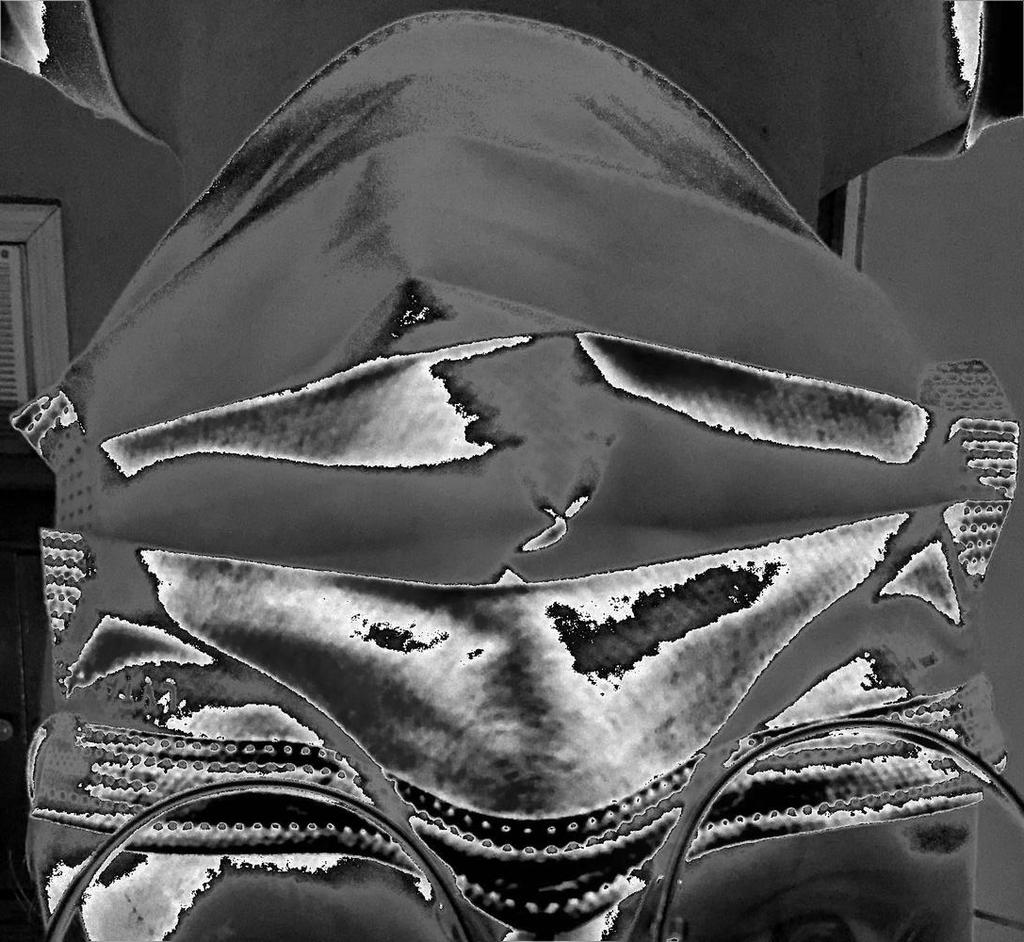Low GSM: (8, 7, 1021, 830)
